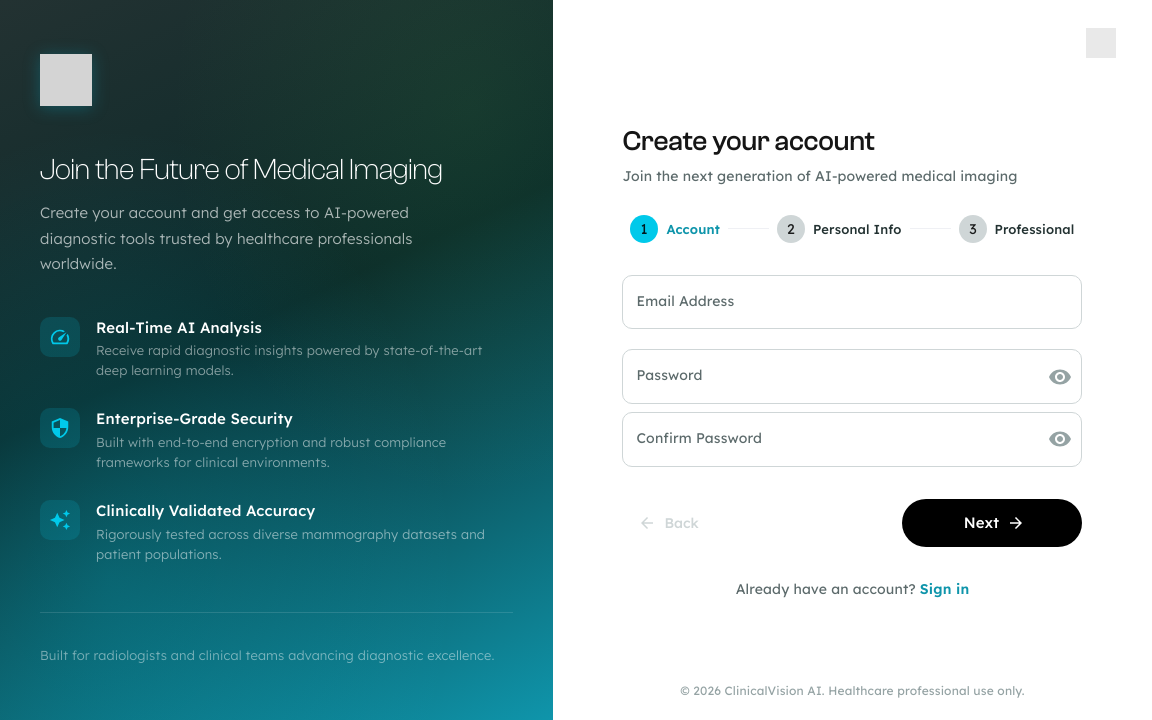
Test: RegisterPage — Password Hints Visual Feedback › shows green check for uppercase when password has uppercase letter
Type "A" into the password field labelled "Password". click: (828, 377)
box: [622,349,1032,404]
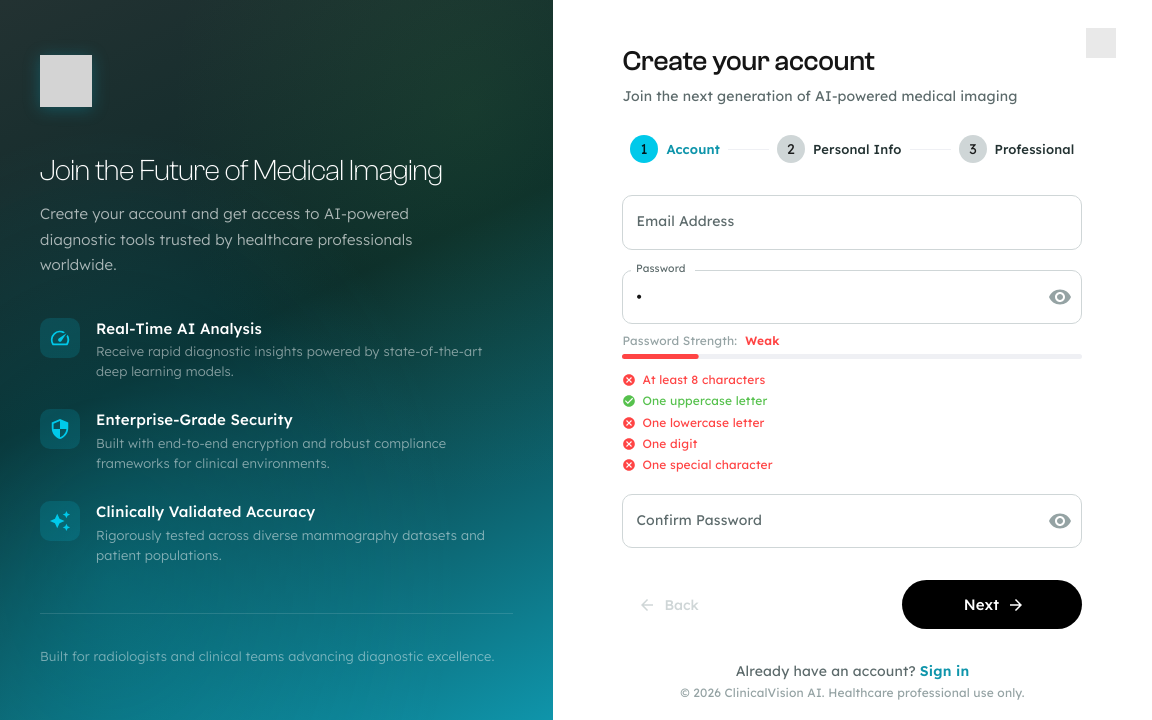
Check: the icon with test id "check-uppercase" is shown, box [622,394,636,408]
Check: the icon with test id "cross-lowercase" is shown, box [622,416,636,430]
